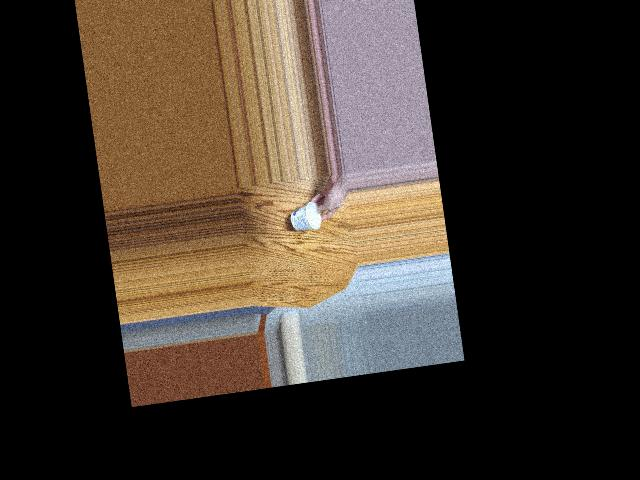cotage: (285, 204, 320, 239)
